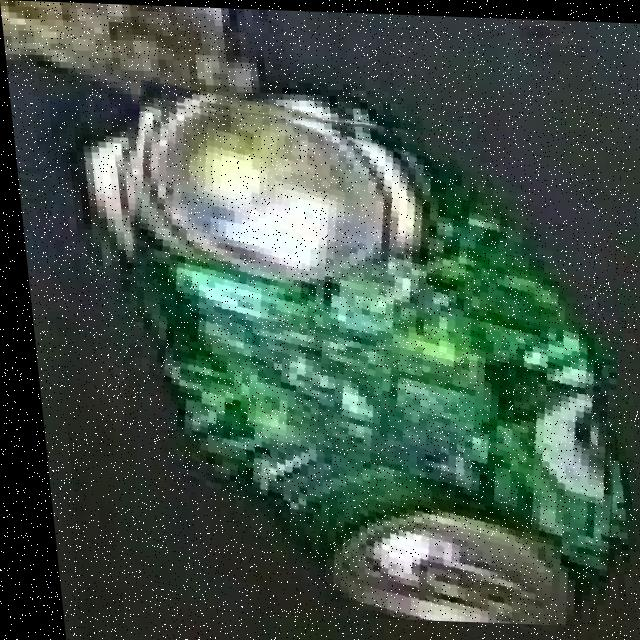litter: (84, 95, 640, 624)
